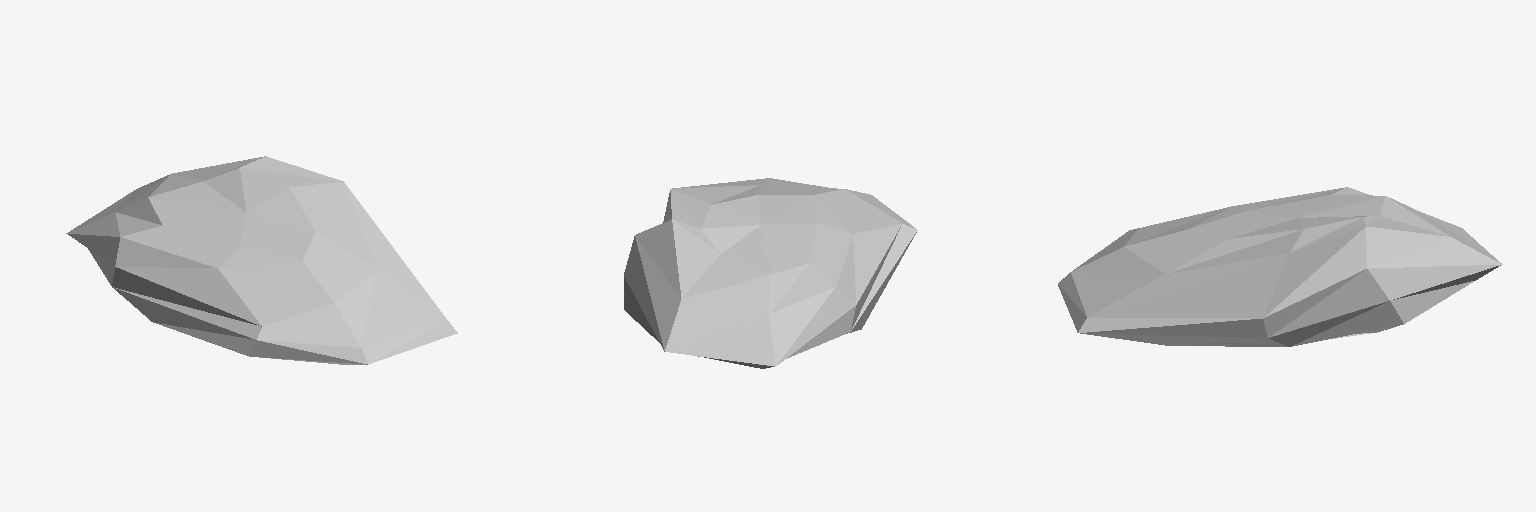
The model's file is Rock4.obj.
The picture shows the model from 3 angles: view 1: azimuth 30°, elevation 25°; view 2: azimuth 150°, elevation 25°; view 3: azimuth 270°, elevation 25°; orthographic projection.
Parts seen in each view (by area): view 1: pSphere1; view 2: pSphere1; view 3: pSphere1.
Part boxes in pixels (x1,y1,x2,y2): pSphere1: (66,156,457,364); pSphere1: (624,178,917,368); pSphere1: (1058,187,1502,346).
Bounding box in the file's own units: 24.89 × 11.5 × 41.87.